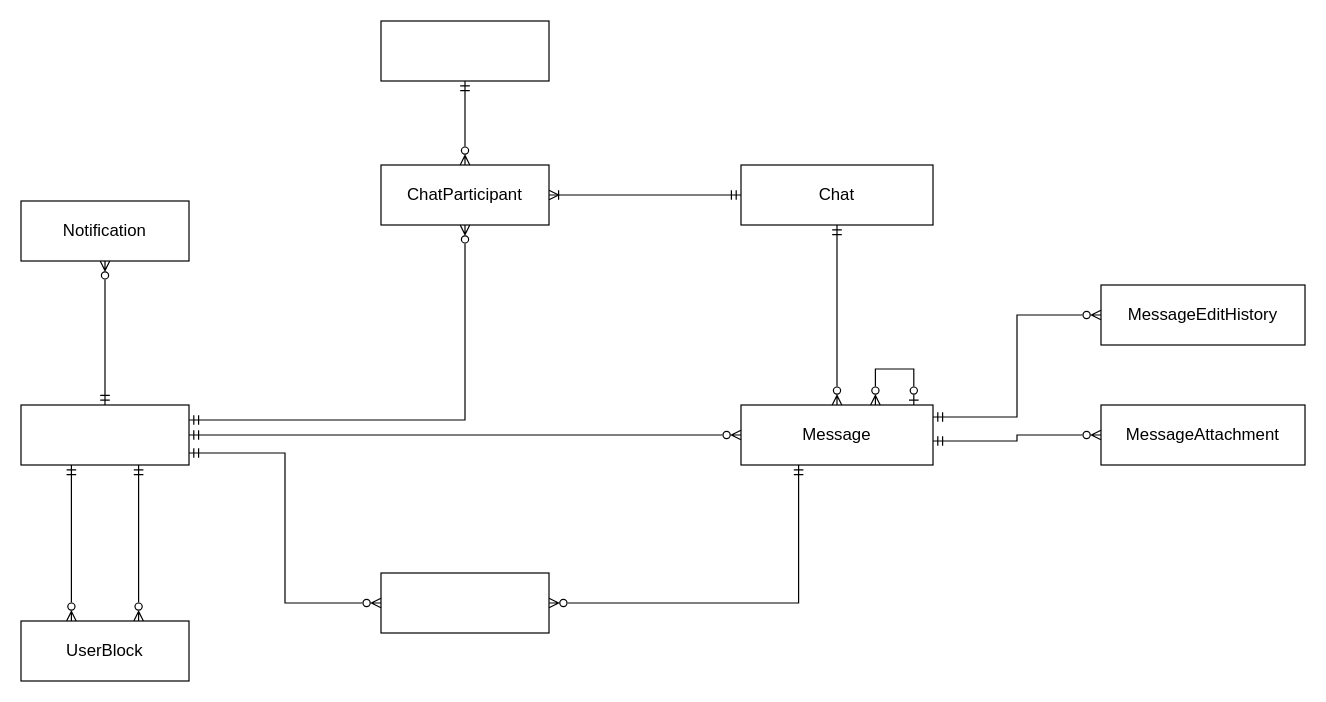
Some shapes in this 1326 by 702 pixel diagram are drawn without their labels. The shapes that lost their labels are listed below. From the top down, each one's centre as x and y in pixels, then its label:
At pixel 464 50: "ChatRole".
At pixel 104 434: "User".
At pixel 464 602: "MessageRead".
